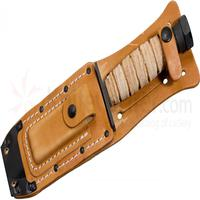knife: (11, 5, 195, 198)
